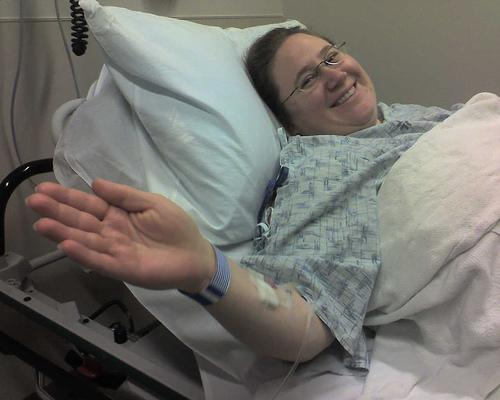person: (28, 26, 460, 361)
